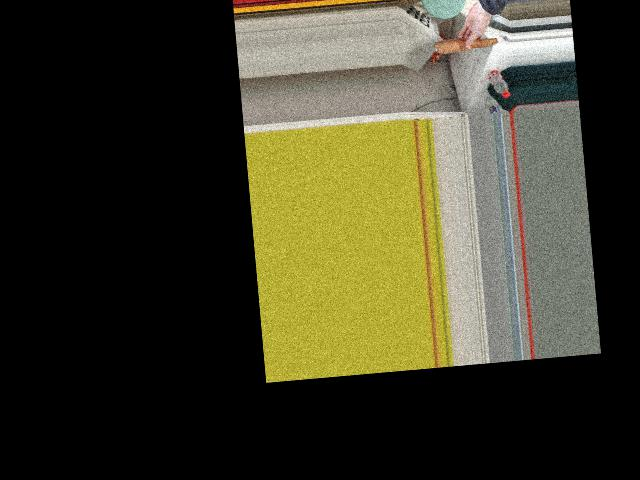sweet_potato: (434, 29, 499, 55)
